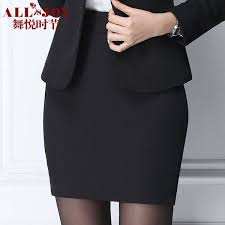F_tailored skirt: (37, 7, 200, 210)
